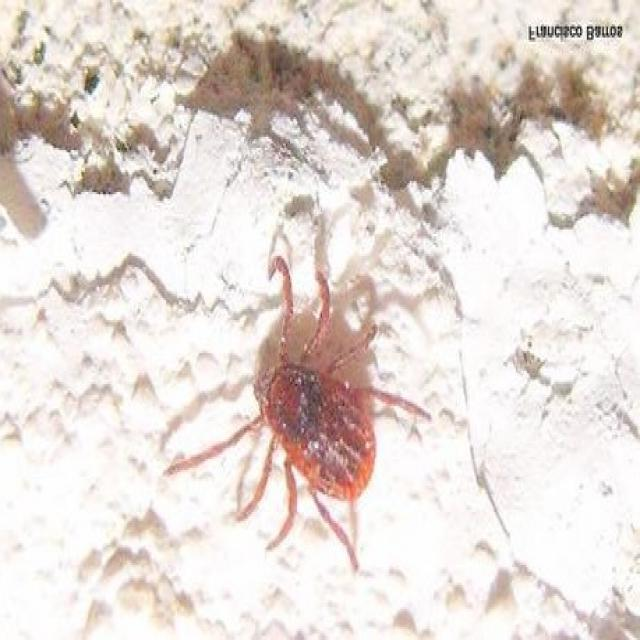Rhipicephalus Sanguineus-F: (165, 238, 432, 572)
